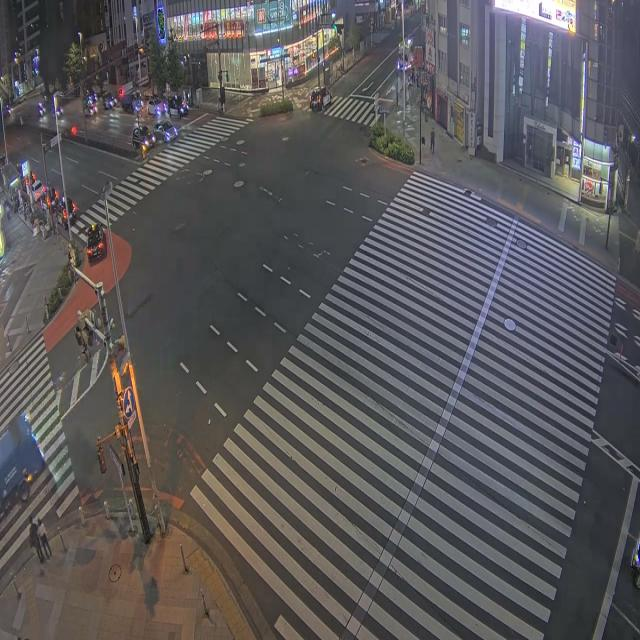car: (86, 224, 105, 262), (57, 196, 77, 226), (132, 126, 156, 149), (153, 120, 177, 142), (310, 88, 331, 111), (168, 95, 188, 118), (147, 98, 167, 116), (32, 180, 46, 201), (101, 92, 117, 110), (84, 99, 97, 117)
motorcycle: (631, 538, 639, 588), (51, 105, 63, 116), (38, 102, 46, 118), (6, 105, 12, 115)
